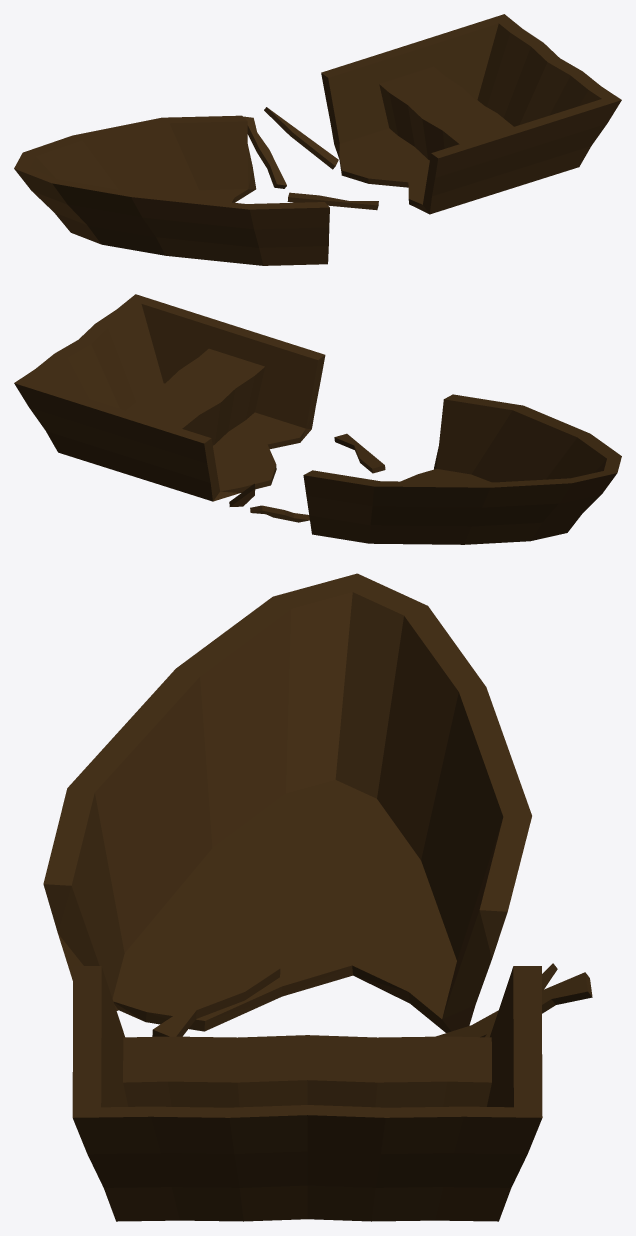
File: Barque.fbx
3 views of the same model, one above another, from view 1: azimuth 30°, elevation 25°; view 2: azimuth 150°, elevation 25°; view 3: azimuth 270°, elevation 25° (orthographic). The views are drawn at different scales.
Visible parts, largest first — view 1: Plane; view 2: Plane; view 3: Plane.
Boxes of the visible parts, x1=… form: Plane: x1=14, y1=14, x2=621, y2=265; Plane: x1=14, y1=294, x2=621, y2=544; Plane: x1=43, y1=573, x2=592, y2=1221.
Size of the model in its own units: 601 by 113 by 266.
